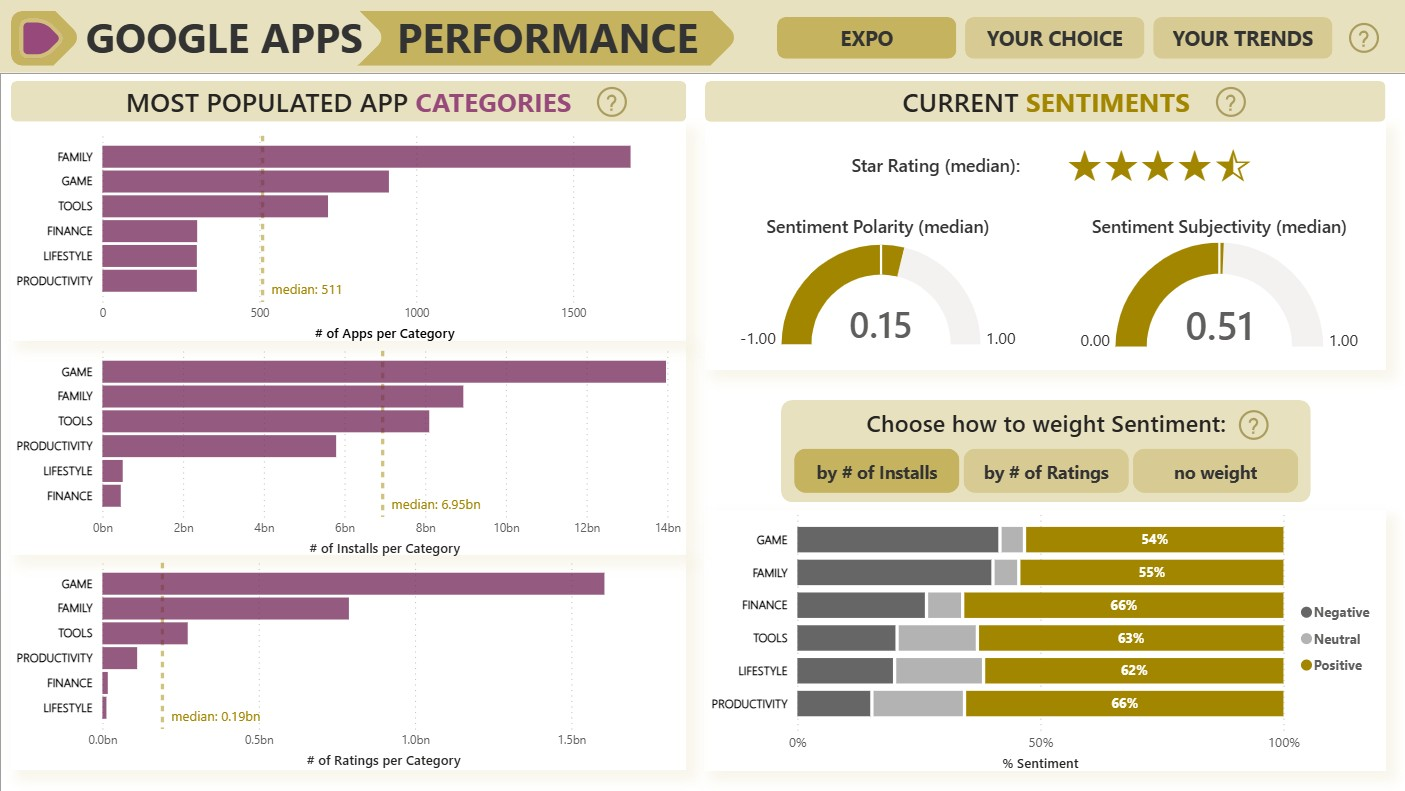

The dashboard page shown, as its layout file describes it:
{"tool":"powerbi","page":{"name":"EXPO","canvas":[1280,720],"ordinal":0},"visuals":[{"type":"shape","title":"Top background shape","box":[0,0,1280,66.2],"z":0,"group":"g3"},{"type":"shape","title":"Background shape","box":[0,66.5,1280,653.1],"z":0},{"type":"shape","title":"Backplot shape","box":[640.6,110.6,619,226],"z":0,"group":"g1"},{"type":"shape","title":"Top foreground shape","box":[9.9,9.9,682.6,49.7],"z":1000,"group":"g3"},{"type":"group","id":"g1","title":"RIGHT SECTION","box":[640,74,620,627.5],"z":1000},{"type":"shape","title":"Backplot shape","box":[640,464,619.5,237],"z":1000,"group":"g1"},{"type":"actionButton","title":"Top question button","box":[1220.4,15.6,39.7,38.3],"z":2000,"group":"g3"},{"type":"group","id":"g2","title":"LEFT SECTION","box":[8.9,74,615.1,627],"z":2000},{"type":"hundredPercentStackedBarChart","title":"% Negative, Neutral and Positive by Category","fields":{"Category":["brid_CategoryGenreApp.Category Hierarchy.Category"],"Y":["_Measures.% Sentiment Neg Selected","_Measures.% Sentiment Neut Selected","_Measures.% Sentiment Pos Selected"]},"box":[641.1,459.8,618.9,241.7],"z":2000,"group":"g1"},{"type":"shape","title":"Backplot shape","box":[10,506,614,195],"z":2500,"group":"g2"},{"type":"shape","title":"Backplot shape","box":[10,310,614,195],"z":2750,"group":"g2"},{"type":"group","id":"g3","title":"TOP SECTION","box":[0,0,1280,66.2],"z":3000},{"type":"shape","title":"Arrow shape 2","box":[42.4,3,308.3,62.5],"z":3000,"group":"g3"},{"type":"shape","title":"Backplot shape","box":[10,111.1,614,199.3],"z":3000,"group":"g2"},{"type":"shape","title":"Right subtitle shape","box":[710,364,481.6,93],"z":3000,"group":"g1"},{"type":"barChart","fields":{"Category":["brid_CategoryGenreApp.Category Hierarchy.Category","brid_CategoryGenreApp.Category Hierarchy.Genres"],"Y":["Sum(dim_App.Ratings Count)"]},"box":[8.9,504.3,614.5,195.1],"z":3500,"group":"g2"},{"type":"barChart","fields":{"Category":["brid_CategoryGenreApp.Category Hierarchy.Category","brid_CategoryGenreApp.Category Hierarchy.Genres"],"Y":["Sum(dim_App.Installs)"]},"box":[8.9,311.4,614.5,195.1],"z":3750,"group":"g2"},{"type":"shape","title":"Arrow shape 1","box":[640,3,77.4,62.5],"z":4000,"group":"g3"},{"type":"barChart","fields":{"Category":["brid_CategoryGenreApp.Category Hierarchy.Category","brid_CategoryGenreApp.Category Hierarchy.Genres"],"Y":["_Measures.Total Count of Apps"]},"box":[8.9,116.3,614.5,195.1],"z":4000,"group":"g2"},{"type":"advancedSlicerVisual","title":"Choose how to weight Sentiment:","fields":{"Values":["lookup_WeightingSelector.Value1"]},"box":[719,370,464.1,78.5],"z":4000,"group":"g1"},{"type":"pageNavigator","box":[706.4,15.8,506.5,38.2],"z":5000,"group":"g3"},{"type":"gauge","title":"Sentiment Polarity (median)","fields":{"Y":["_Measures.Med Sentiment Polar"],"MinValue":["Min(dim_Review.Sentiment Polar)"],"MaxValue":["Max(dim_Review.Sentiment Polar)1"]},"box":[663.1,195,270.6,130.4],"z":5000,"group":"g1"},{"type":"textbox","title":"Top title text","box":[9.9,3,682.6,62.4],"z":6000,"group":"g3"},{"type":"gauge","title":"Sentiment Subjectivity (median)","fields":{"Y":["_Measures.Med Sentiment Subject"],"MinValue":["Min(dim_Review.Sentiment Subject)"],"MaxValue":["Max(dim_Review.Sentiment Subject)"]},"box":[971.6,195,273.4,130.4],"z":6000,"group":"g1"},{"type":"shape","box":[17.4,16.3,43.5,37],"z":6500,"group":"g3"},{"type":"shape","title":"Left subtitle shape","box":[10,74,614,37],"z":7000,"group":"g2"},{"type":"cardVisual","title":"Star Rating (stars)","fields":{"Data":["_Measures.Rating in stars"]},"box":[956.1,116.7,196.3,63.1],"z":7000,"group":"g1"},{"type":"textbox","title":"Left subtitle: Most populated app categories","box":[10,74,614,36],"z":8000,"group":"g2"},{"type":"textbox","title":"Star Rating (median)","box":[766.9,134.9,166.8,32.2],"z":8000,"group":"g1"},{"type":"shape","title":"Right subtitle shape","box":[640.6,74,618.6,37.2],"z":9000,"group":"g1"},{"type":"actionButton","title":"Left question button","box":[536.9,74.4,38,38],"z":9000,"group":"g2"},{"type":"textbox","title":"Right subtitle: Current sentiments","box":[641.4,74,618.6,36.3],"z":10000,"group":"g1"},{"type":"actionButton","title":"Right question button 2","box":[1120.5,367.1,37.7,39.9],"z":11000,"group":"g1"},{"type":"actionButton","title":"Right question button 1","box":[1099.9,74,38.2,38.2],"z":12000,"group":"g1"}]}

Visuals, with their boxes in screenshot pixels (x1, y1, x2, y2), scaled from the page's 1280x720 canvas onto the 1405x791 screenshot:
"Top background shape" shape: locate(0, 0, 1404, 73)
"Background shape" shape: locate(0, 73, 1404, 790)
"Backplot shape" shape: locate(703, 122, 1383, 370)
"Top foreground shape" shape: locate(11, 11, 760, 65)
"RIGHT SECTION" group: locate(702, 81, 1383, 771)
"Backplot shape" shape: locate(702, 510, 1382, 770)
"Top question button" actionButton: locate(1340, 17, 1383, 59)
"LEFT SECTION" group: locate(10, 81, 685, 770)
"% Negative, Neutral and Positive by Category" hundredPercentStackedBarChart: locate(704, 505, 1383, 771)
"Backplot shape" shape: locate(11, 556, 685, 770)
"Backplot shape" shape: locate(11, 341, 685, 555)
"TOP SECTION" group: locate(0, 0, 1404, 73)
"Arrow shape 2" shape: locate(47, 3, 385, 72)
"Backplot shape" shape: locate(11, 122, 685, 341)
"Right subtitle shape" shape: locate(779, 400, 1308, 502)
barChart - brid_CategoryGenreApp.Category Hierarchy.Category x brid_CategoryGenreApp.Category Hierarchy.Genres: locate(10, 554, 684, 768)
barChart - brid_CategoryGenreApp.Category Hierarchy.Category x brid_CategoryGenreApp.Category Hierarchy.Genres: locate(10, 342, 684, 556)
"Arrow shape 1" shape: locate(702, 3, 787, 72)
barChart - brid_CategoryGenreApp.Category Hierarchy.Category x brid_CategoryGenreApp.Category Hierarchy.Genres: locate(10, 128, 684, 342)
"Choose how to weight Sentiment:" advancedSlicerVisual: locate(789, 406, 1299, 493)
pageNavigator: locate(775, 17, 1331, 59)
"Sentiment Polarity (median)" gauge: locate(728, 214, 1025, 357)
"Top title text" textbox: locate(11, 3, 760, 72)
"Sentiment Subjectivity (median)" gauge: locate(1066, 214, 1367, 357)
shape: locate(19, 18, 67, 59)
"Left subtitle shape" shape: locate(11, 81, 685, 122)
"Star Rating (stars)" cardVisual: locate(1049, 128, 1265, 198)
"Left subtitle: Most populated app categories" textbox: locate(11, 81, 685, 121)
"Star Rating (median)" textbox: locate(842, 148, 1025, 184)
"Right subtitle shape" shape: locate(703, 81, 1382, 122)
"Left question button" actionButton: locate(589, 82, 631, 123)
"Right subtitle: Current sentiments" textbox: locate(704, 81, 1383, 121)
"Right question button 2" actionButton: locate(1230, 403, 1271, 447)
"Right question button 1" actionButton: locate(1207, 81, 1249, 123)
